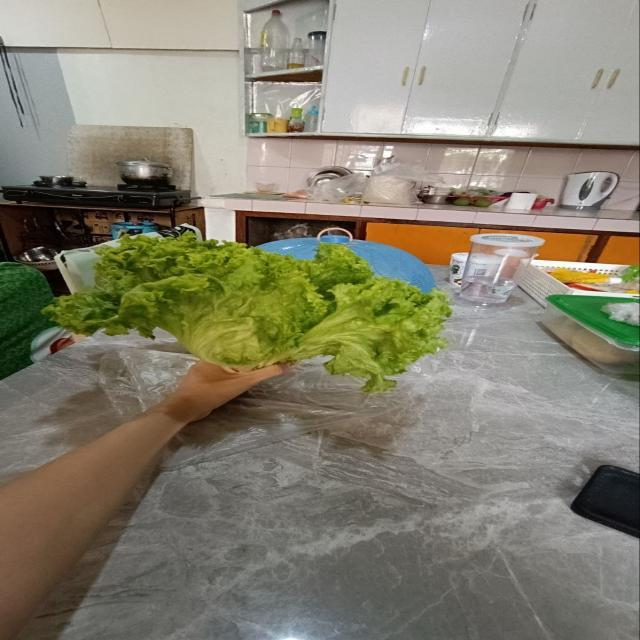Lettuce-Ready-to-Harvest: (45, 235, 450, 391)
